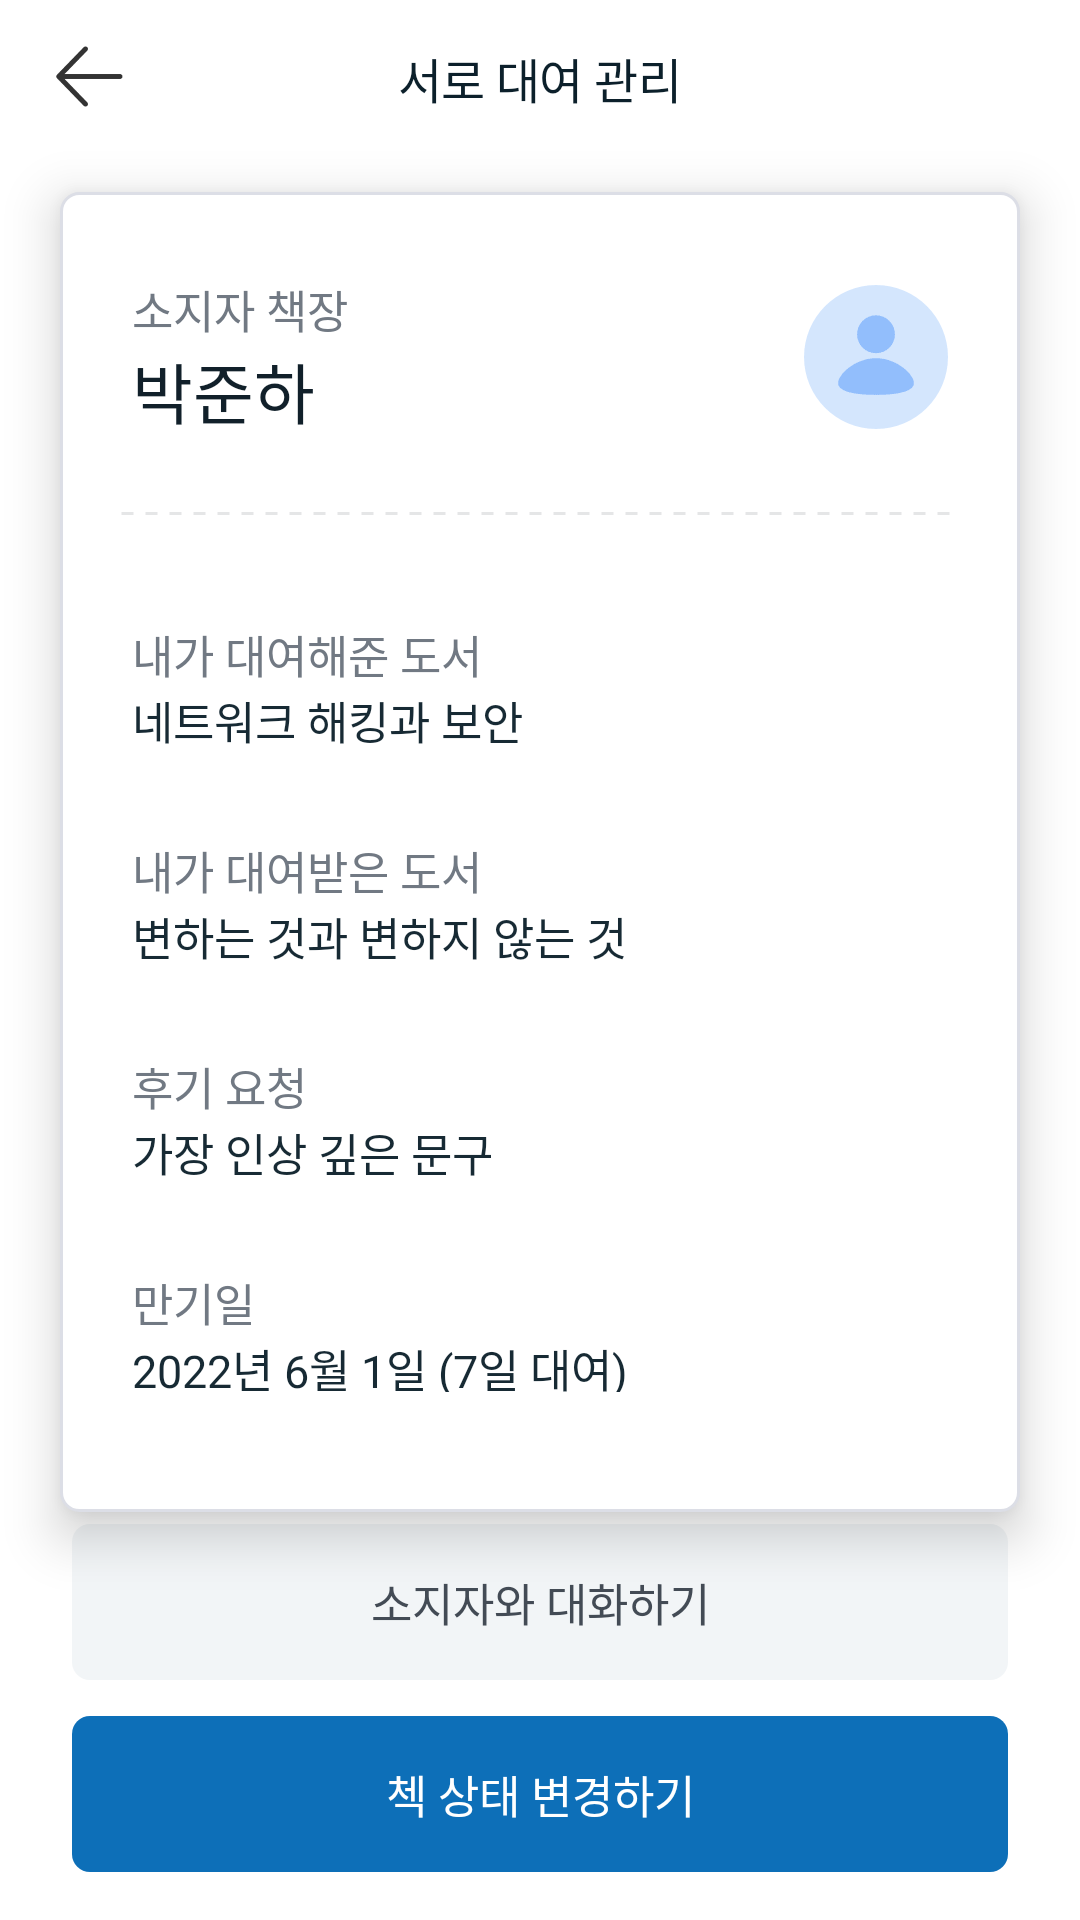

Screen size 1080 × 1920. Icon name, then its center in pixels as (x,y):
arrow left: (89,76)
profile: (876,357)
